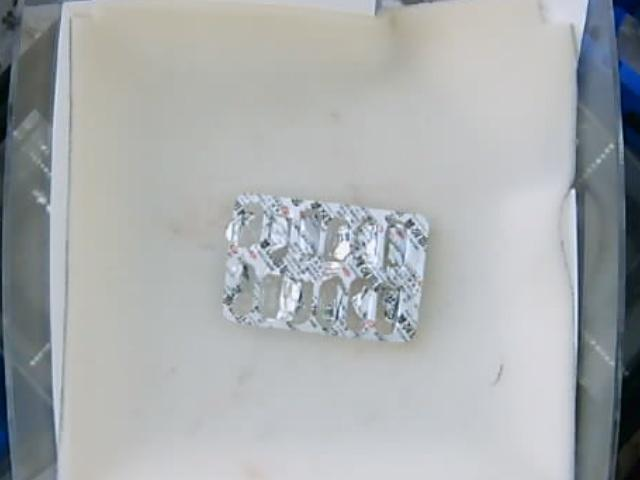Medicine: (222, 195, 428, 341)
